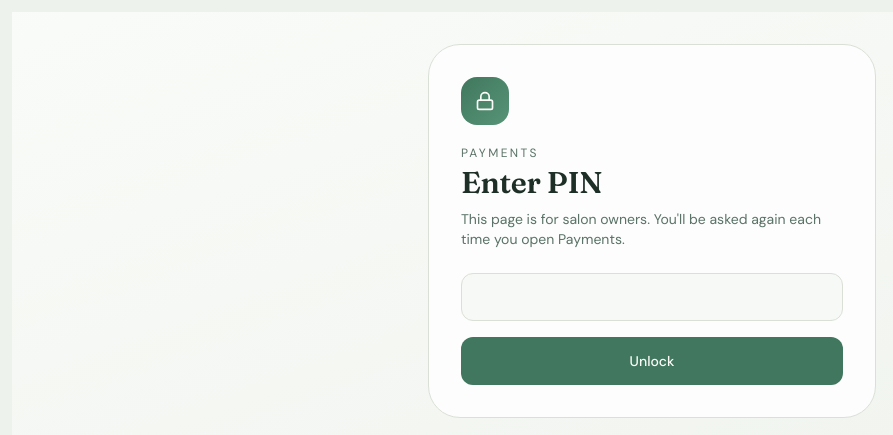
Test: PaymentsPinLock › shows payments after a correct PIN
Type "2468" into the field named "Payments PIN" at (652, 297), box 461,273 -> 843,321
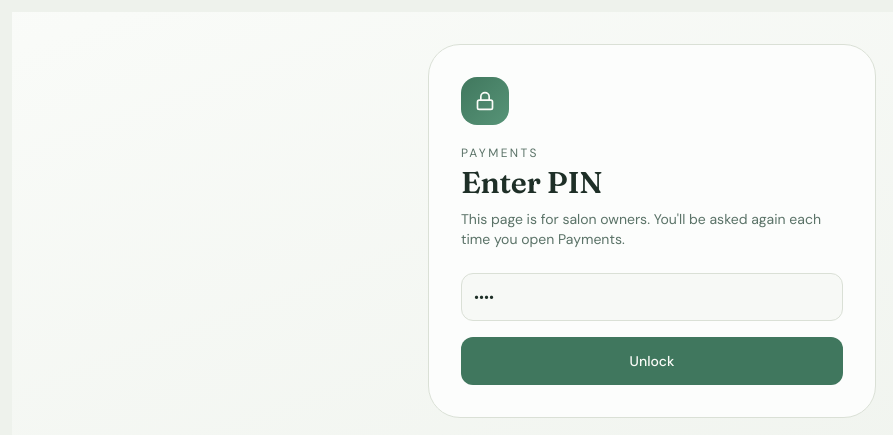
Click the button "Unlock" at (652, 361), box 461,337 -> 843,385
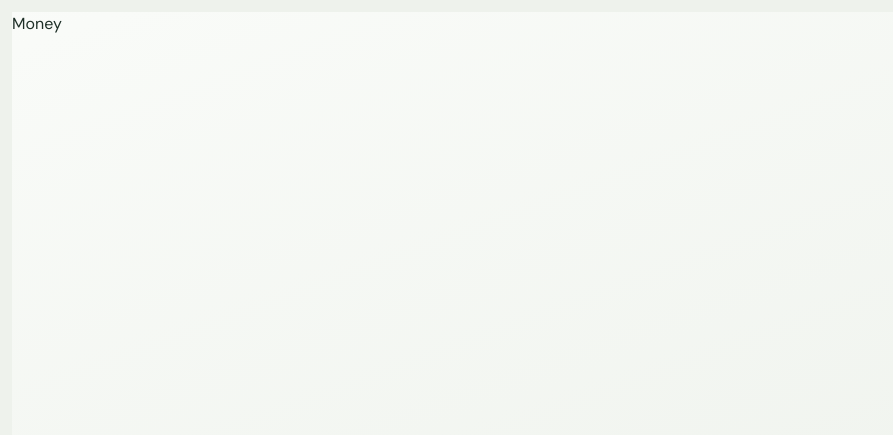
Expected: the text "Money" is shown, 12,13 -> 62,34
